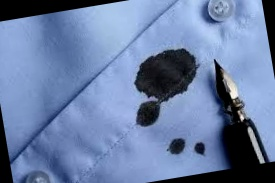ink: (132, 46, 202, 106), (133, 106, 160, 127), (168, 138, 186, 154), (194, 142, 206, 155)
